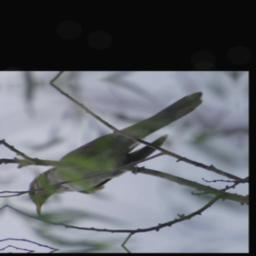Cuckoo: (20, 85, 214, 215)
